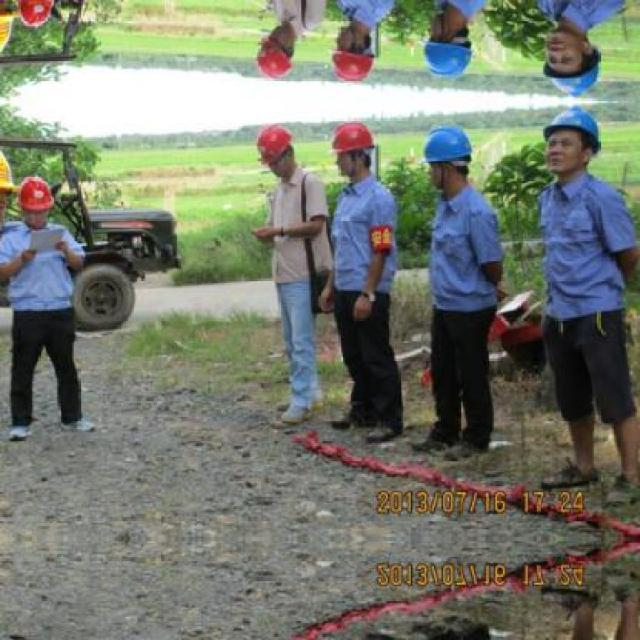helmet: (536, 102, 606, 178), (536, 22, 606, 98), (414, 119, 474, 195), (414, 5, 474, 81), (327, 114, 381, 181), (327, 19, 381, 86), (255, 120, 296, 172), (255, 28, 296, 80), (15, 172, 52, 225), (15, 0, 54, 29)
